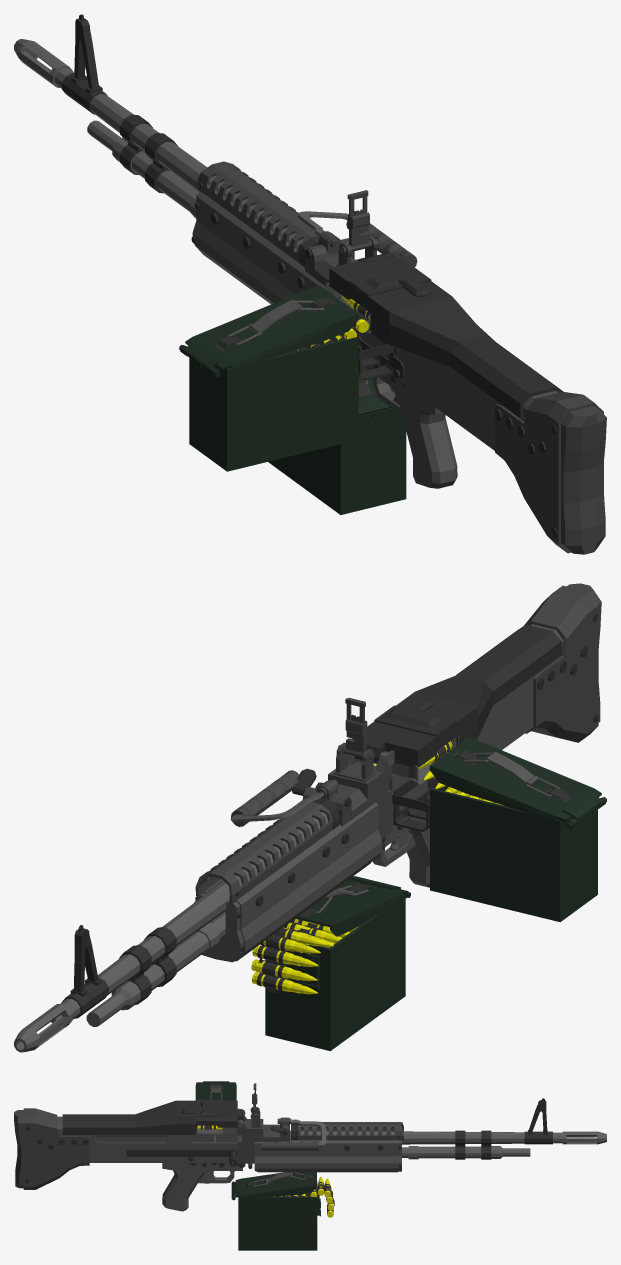
3 views of the same model, one above another, from view 1: azimuth 30°, elevation 25°; view 2: azimuth 150°, elevation 25°; view 3: azimuth 270°, elevation 25° (orthographic). The views are drawn at different scales.
Visible parts, largest first — view 1: Cylinder.063, Cube.117, Cube.114, Cylinder.062, Cylinder.068, Cube.115, Plane.025, Plane.026, Cube.116, Cube.118, Cube.121, Cube.125 (+2 smaller); view 2: Cylinder.063, Cylinder.068, Cylinder.062, Cube.117, Cube.115, Cube.114, Cube.118, Plane.026, Cylinder.069, Plane.025, Cube.121, Cube.116 (+2 smaller); view 3: Cylinder.068, Cylinder.062, Cube.117, Cube.115, Cube.114, Plane.025, Cube.118, Cube.116, Plane.026, Cylinder.063, Cube.124, Cylinder.072 (+3 smaller).
Boxes of the visible parts, x1=… form: Cylinder.063: x1=179, y1=285, x2=359, y2=471; Cube.117: x1=329, y1=252, x2=563, y2=418; Cube.114: x1=495, y1=391, x2=606, y2=554; Cylinder.062: x1=14, y1=14, x2=303, y2=250; Cylinder.068: x1=268, y1=368, x2=406, y2=514; Cube.115: x1=192, y1=192, x2=338, y2=304; Plane.025: x1=360, y1=331, x2=557, y2=450; Plane.026: x1=197, y1=161, x2=324, y2=262; Cube.116: x1=365, y1=365, x2=457, y2=488; Cube.118: x1=298, y1=211, x2=417, y2=298; Cube.121: x1=336, y1=190, x2=377, y2=266; Cube.125: x1=354, y1=329, x2=404, y2=379; Cylinder.063: x1=429, y1=737, x2=606, y2=922; Cylinder.068: x1=265, y1=876, x2=410, y2=1051; Cylinder.062: x1=14, y1=812, x2=327, y2=1052; Cube.117: x1=352, y1=624, x2=561, y2=767; Cube.115: x1=195, y1=802, x2=382, y2=962; Cube.114: x1=524, y1=583, x2=601, y2=742; Cube.118: x1=230, y1=751, x2=392, y2=839; Plane.026: x1=195, y1=802, x2=332, y2=904; Cylinder.069: x1=251, y1=919, x2=359, y2=994; Plane.025: x1=388, y1=624, x2=563, y2=829; Cube.121: x1=333, y1=697, x2=376, y2=781; Cube.116: x1=372, y1=816, x2=429, y2=887; Cylinder.068: x1=231, y1=1172, x2=320, y2=1250; Cylinder.062: x1=290, y1=1098, x2=606, y2=1159; Cube.117: x1=62, y1=1100, x2=243, y2=1134; Cube.115: x1=254, y1=1139, x2=401, y2=1172; Cube.114: x1=14, y1=1108, x2=89, y2=1189; Plane.025: x1=57, y1=1116, x2=237, y2=1162; Cube.118: x1=237, y1=1115, x2=326, y2=1163; Cube.116: x1=162, y1=1163, x2=242, y2=1211; Plane.026: x1=298, y1=1122, x2=403, y2=1140; Cylinder.063: x1=195, y1=1081, x2=236, y2=1100; Cube.124: x1=126, y1=1150, x2=229, y2=1156; Cylinder.072: x1=25, y1=1126, x2=401, y2=1183.
Size of the model in its own units: 2724 by 2976 by 10197.
